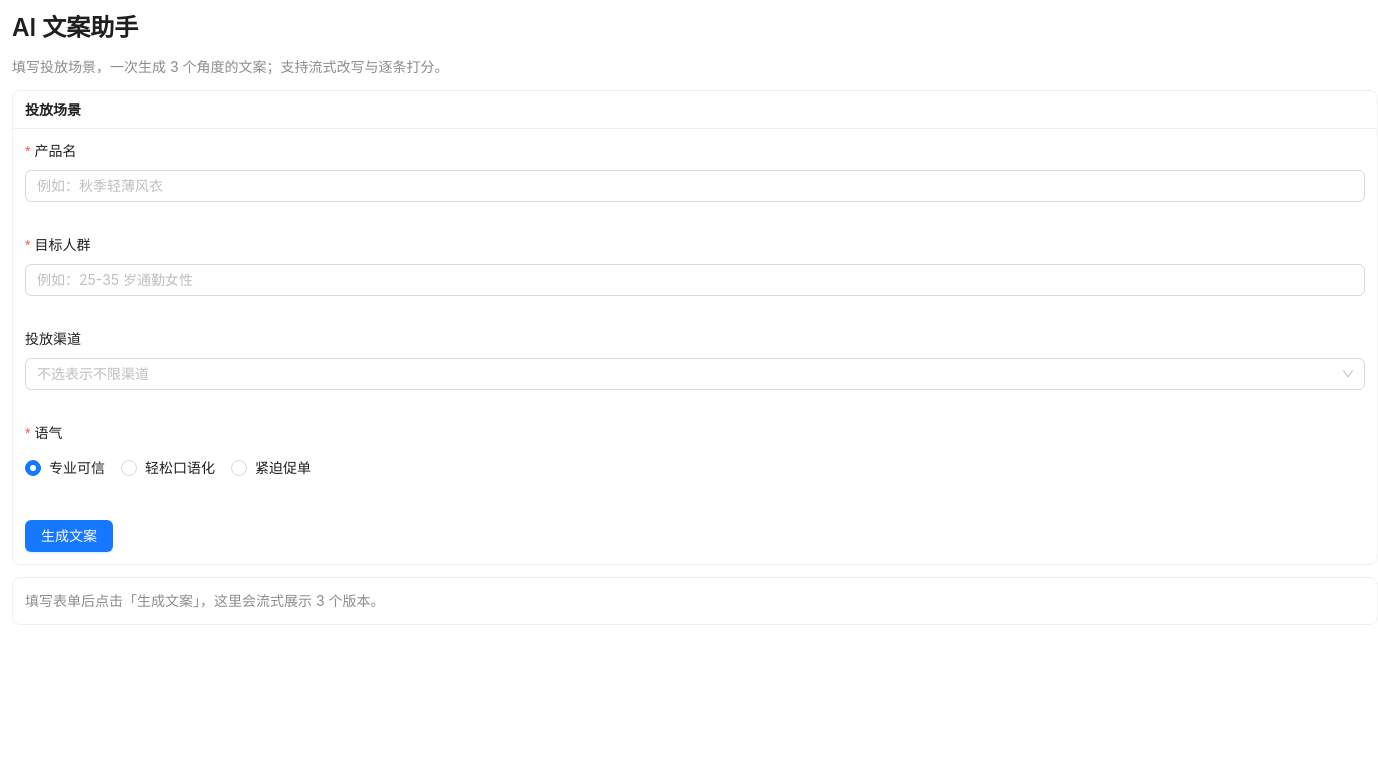
Test case: AiCopilotPage › 缺少必填项时不发起生成
The image size is (1378, 780).
Click the button "生成文案": (69, 536) x1=25 y1=520 x2=113 y2=552
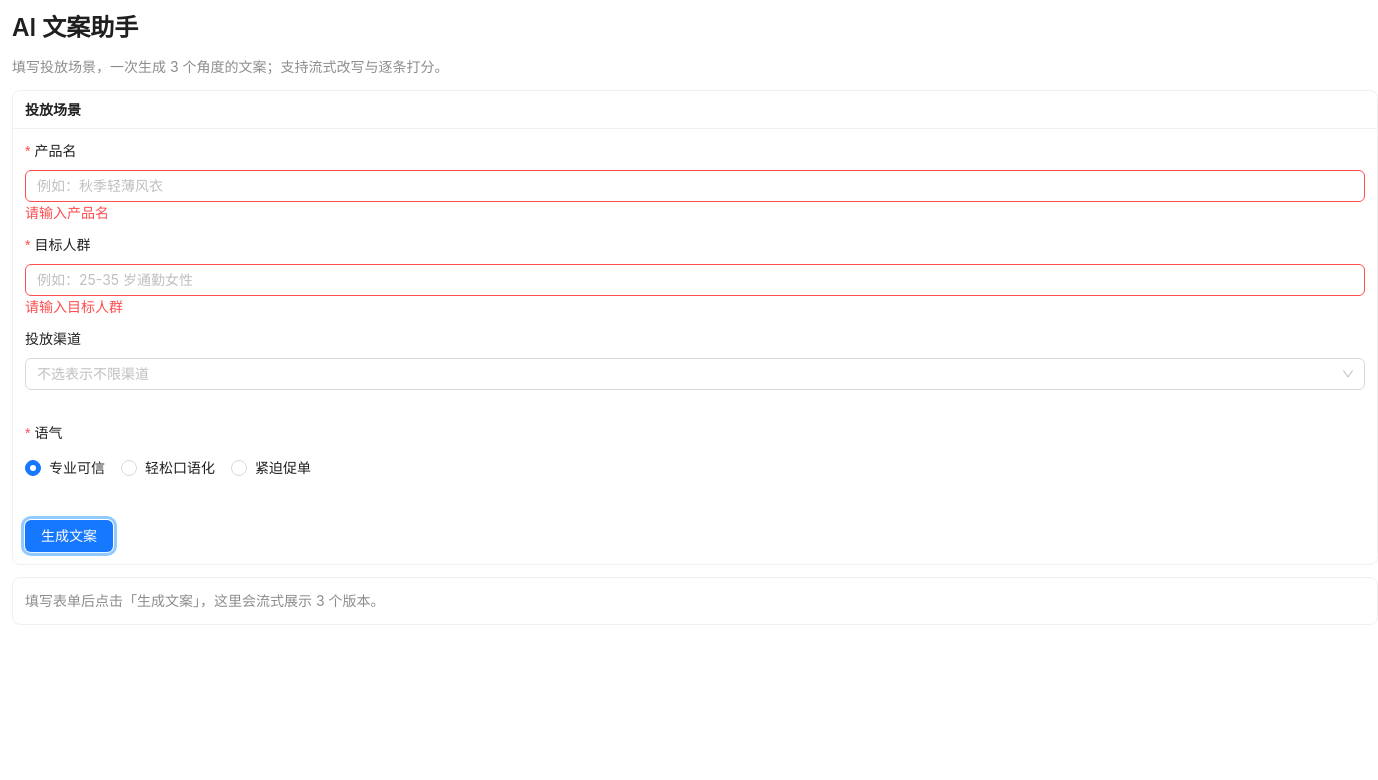
Result: the text "请输入产品名" is shown at x1=25 y1=204 x2=109 y2=221
